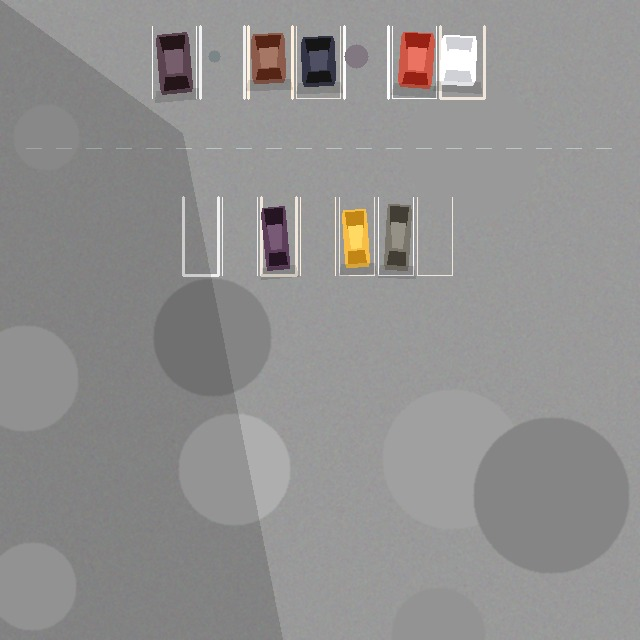space-empty: (200, 26, 244, 98), (344, 26, 388, 98), (183, 197, 218, 275), (222, 197, 257, 275), (300, 197, 335, 275), (417, 197, 452, 275)
space-occupied: (152, 26, 196, 98), (248, 26, 292, 98), (296, 26, 340, 98), (392, 26, 436, 98), (440, 26, 484, 98), (261, 197, 296, 275), (339, 197, 374, 275), (378, 197, 413, 275)
